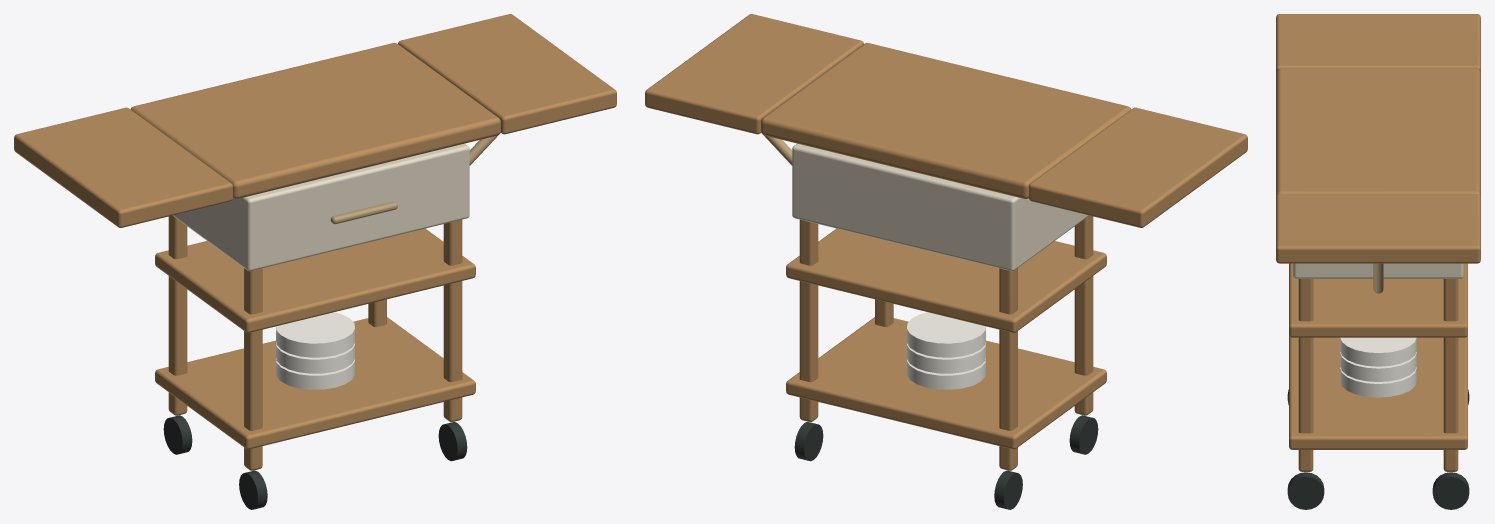
3 views of the same model, side by side, from view 1: azimuth 30°, elevation 25°; view 2: azimuth 150°, elevation 25°; view 3: azimuth 270°, elevation 25° (orthographic). The views are drawn at different scales.
Visible parts, largest first — view 1: Shelf (×2), Cart top, Drawer, Left drop leaf, Right drop leaf, Cart post (×3), Stacked bowl (×3), Caster (×3); view 2: Shelf (×2), Cart top, Drawer, Left drop leaf, Right drop leaf, Cart post (×3), Stacked bowl (×3), Caster (×3); view 3: Cart top, Shelf (×2), Right drop leaf, Left drop leaf, Cart post (×2), Stacked bowl (×3), Drawer, Caster (×2), Leaf support.
Part boxes in pixels (bbox=[...]): Shelf (×2): bbox=[155, 228, 475, 449]; Cart top: bbox=[130, 43, 500, 198]; Drawer: bbox=[173, 143, 469, 271]; Left drop leaf: bbox=[14, 107, 232, 227]; Right drop leaf: bbox=[398, 14, 616, 134]; Cart post (×3): bbox=[168, 215, 462, 470]; Stacked bowl (×3): bbox=[276, 312, 354, 389]; Caster (×3): bbox=[163, 415, 467, 509]; Shelf (×2): bbox=[786, 228, 1106, 449]; Cart top: bbox=[761, 43, 1131, 198]; Drawer: bbox=[792, 143, 1088, 271]; Left drop leaf: bbox=[1029, 107, 1247, 227]; Right drop leaf: bbox=[645, 14, 863, 134]; Cart post (×3): bbox=[799, 215, 1093, 470]; Stacked bowl (×3): bbox=[907, 312, 985, 389]; Caster (×3): bbox=[794, 415, 1098, 509]; Cart top: bbox=[1276, 68, 1480, 196]; Shelf (×2): bbox=[1289, 263, 1467, 449]; Right drop leaf: bbox=[1276, 194, 1480, 263]; Left drop leaf: bbox=[1276, 14, 1480, 73]; Cart post (×2): bbox=[1298, 279, 1458, 471]; Stacked bowl (×3): bbox=[1340, 337, 1416, 397]; Drawer: bbox=[1293, 263, 1463, 278]; Caster (×2): bbox=[1287, 472, 1469, 509]; Leaf support: bbox=[1373, 263, 1383, 293].
Bounding box in the file's own units: 1.3 × 0.8555 × 0.48.
